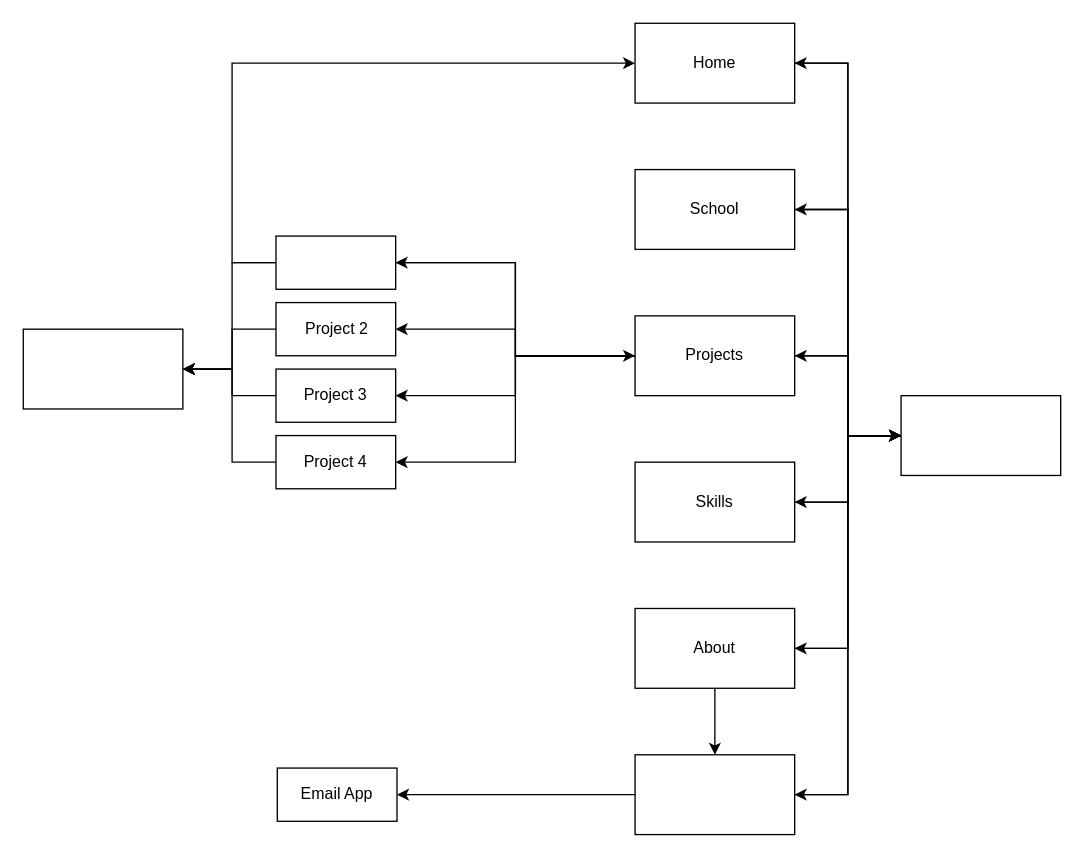
The diagram is 1084 pixels wide and 858 high, and some of its shapes have lost their labels. Each missing label, with the box of its shape:
Contact: (634, 753, 795, 835)
GitHub Page: (22, 328, 183, 409)
Menu: (900, 394, 1061, 475)
Project 1: (275, 235, 396, 289)
